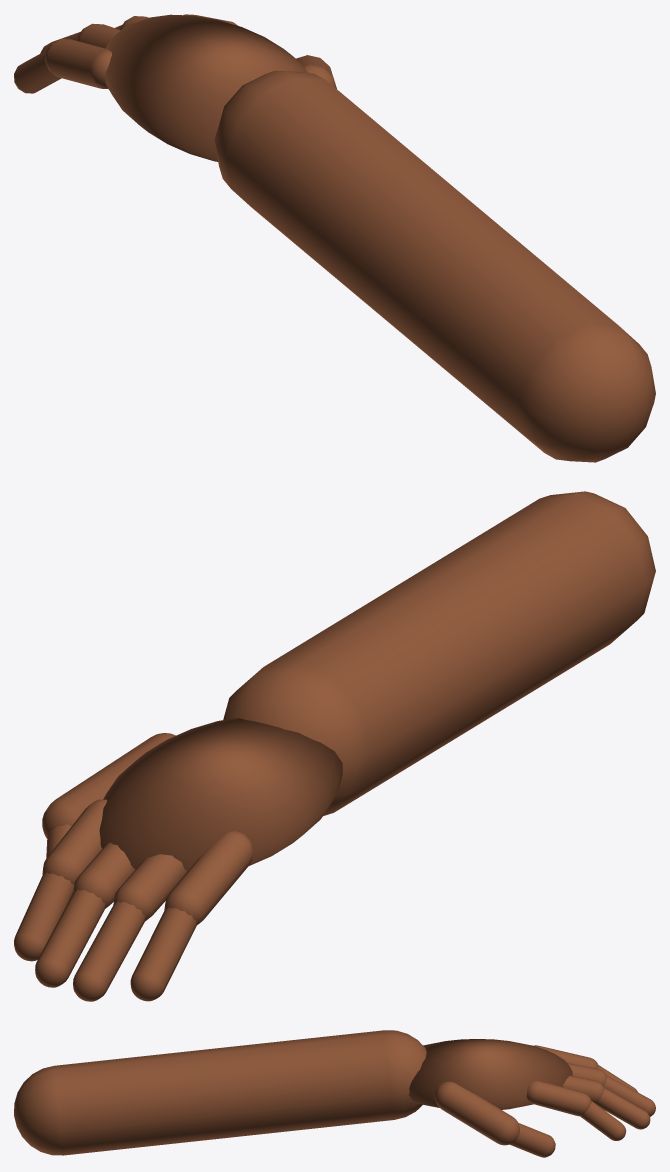
File: human_hand.glb
3 views of the same model, one above another, from view 1: azimuth 30°, elevation 25°; view 2: azimuth 150°, elevation 25°; view 3: azimuth 270°, elevation 25° (orthographic). The views are drawn at different scales.
Visible parts, largest first — view 1: BatchedSurface; view 2: BatchedSurface; view 3: BatchedSurface.
Boxes of the visible parts, bbox=[...] form: BatchedSurface: bbox=[14, 14, 655, 462]; BatchedSurface: bbox=[14, 491, 655, 1001]; BatchedSurface: bbox=[14, 1030, 655, 1157].
Size of the model in its own units: 0.1385 by 0.1115 by 0.5828.
